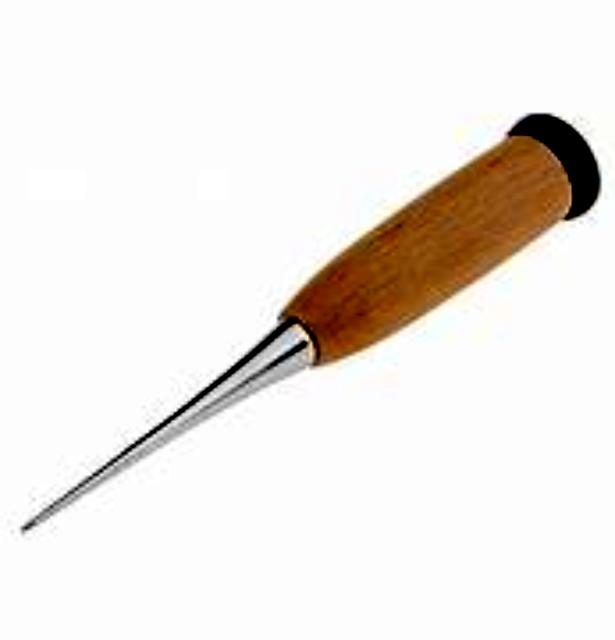ice pick: (8, 114, 600, 536)
